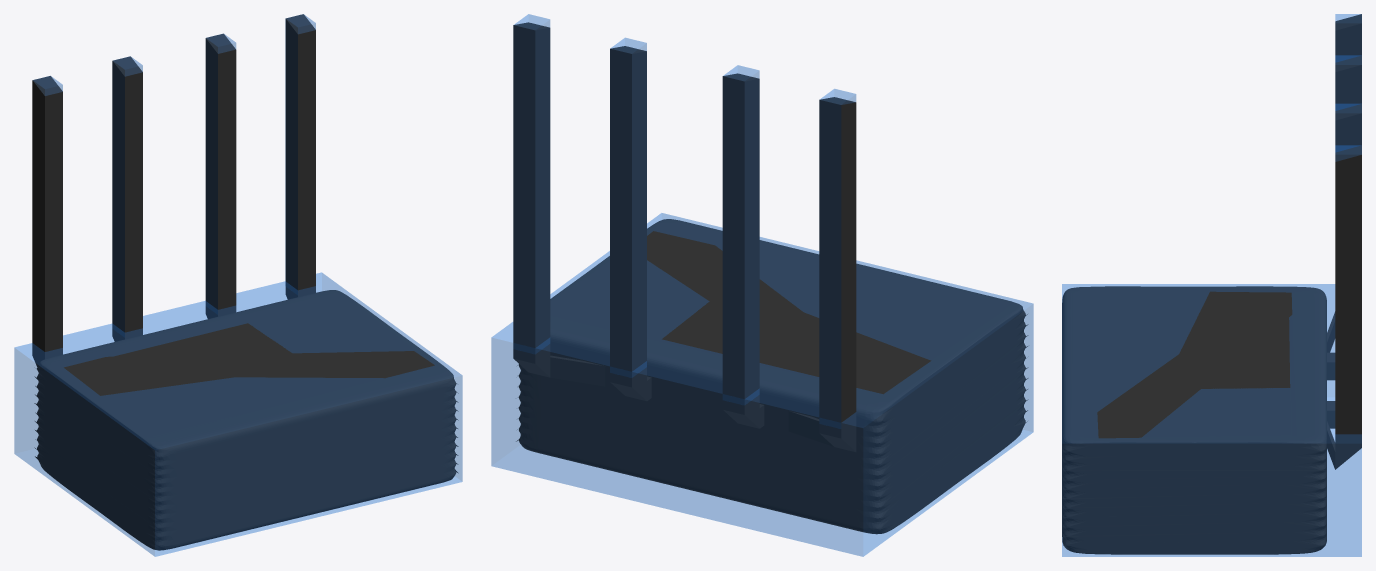
The model's file is xiaomi.glb.
The picture shows the model from 3 angles, left to right: view 1: azimuth 30°, elevation 25°; view 2: azimuth 150°, elevation 25°; view 3: azimuth 270°, elevation 25°; orthographic projection. The views are drawn at different scales.
Visible parts, largest first — view 1: xiaomi, COL_body, COL_antenna_04, COL_antenna_02, COL_antenna_03; view 2: xiaomi, COL_body, COL_antenna_03, COL_antenna_02, COL_antenna_04, COL_antenna_01; view 3: xiaomi, COL_body, COL_antenna_02, COL_antenna_01, COL_antenna_03.
Part boxes in pixels (bbox=[...]): xiaomi: bbox=[32, 14, 458, 550]; COL_body: bbox=[14, 272, 462, 556]; COL_antenna_04: bbox=[285, 14, 315, 294]; COL_antenna_02: bbox=[112, 56, 142, 336]; COL_antenna_03: bbox=[206, 34, 235, 313]; xiaomi: bbox=[513, 22, 1028, 534]; COL_body: bbox=[491, 213, 1033, 556]; COL_antenna_03: bbox=[610, 38, 646, 377]; COL_antenna_02: bbox=[723, 65, 759, 404]; COL_antenna_04: bbox=[513, 14, 549, 353]; COL_antenna_01: bbox=[819, 89, 855, 428]; xiaomi: bbox=[1062, 14, 1361, 554]; COL_body: bbox=[1062, 284, 1361, 556]; COL_antenna_02: bbox=[1335, 55, 1361, 103]; COL_antenna_01: bbox=[1335, 14, 1361, 55]; COL_antenna_03: bbox=[1335, 104, 1361, 145].
Bounding box in the file's own units: 0.42 × 0.4818 × 0.3332.
